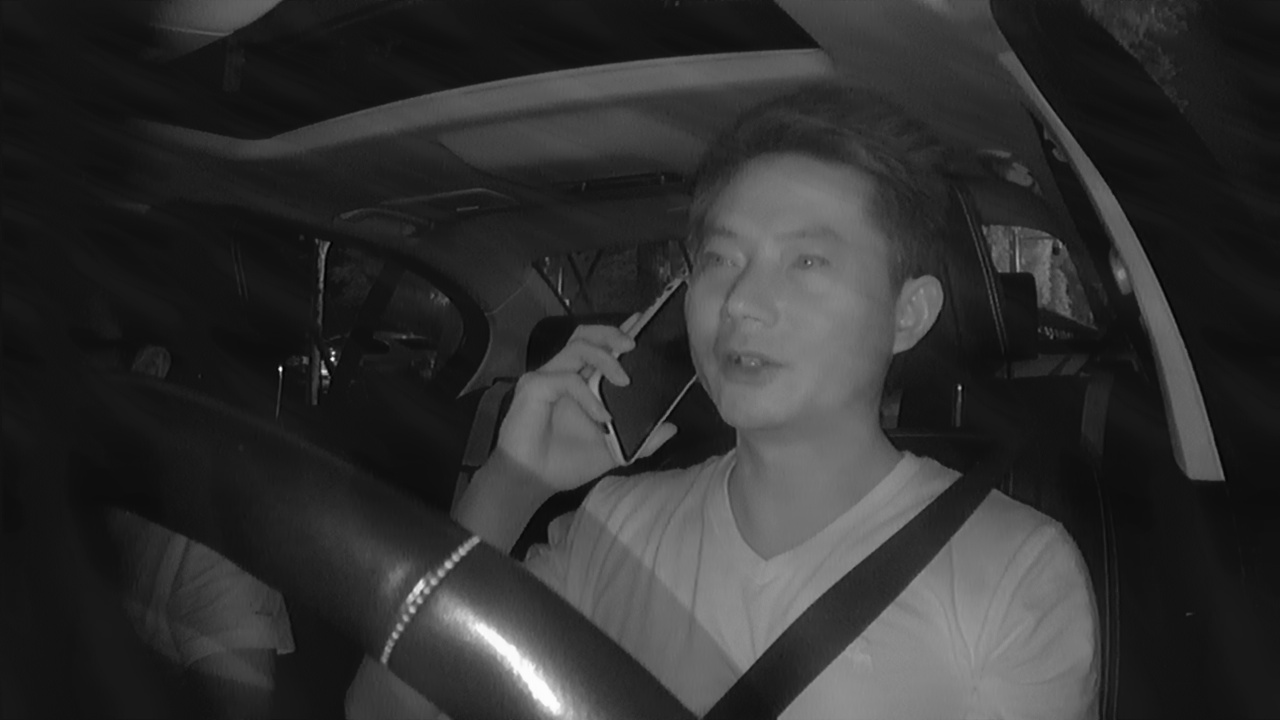hand: (501, 309, 676, 482)
